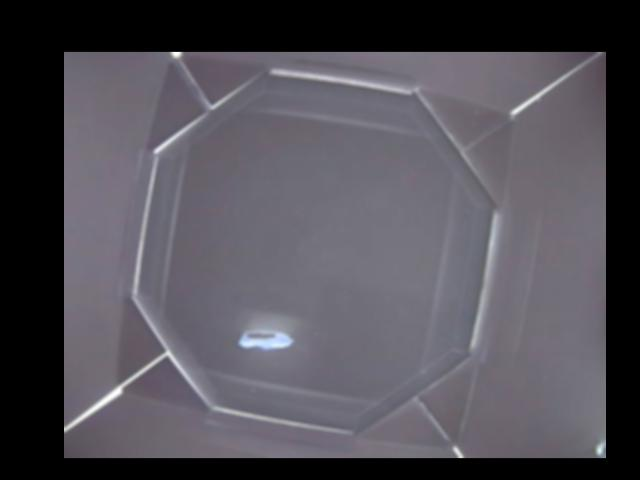China: (241, 328, 294, 352)
